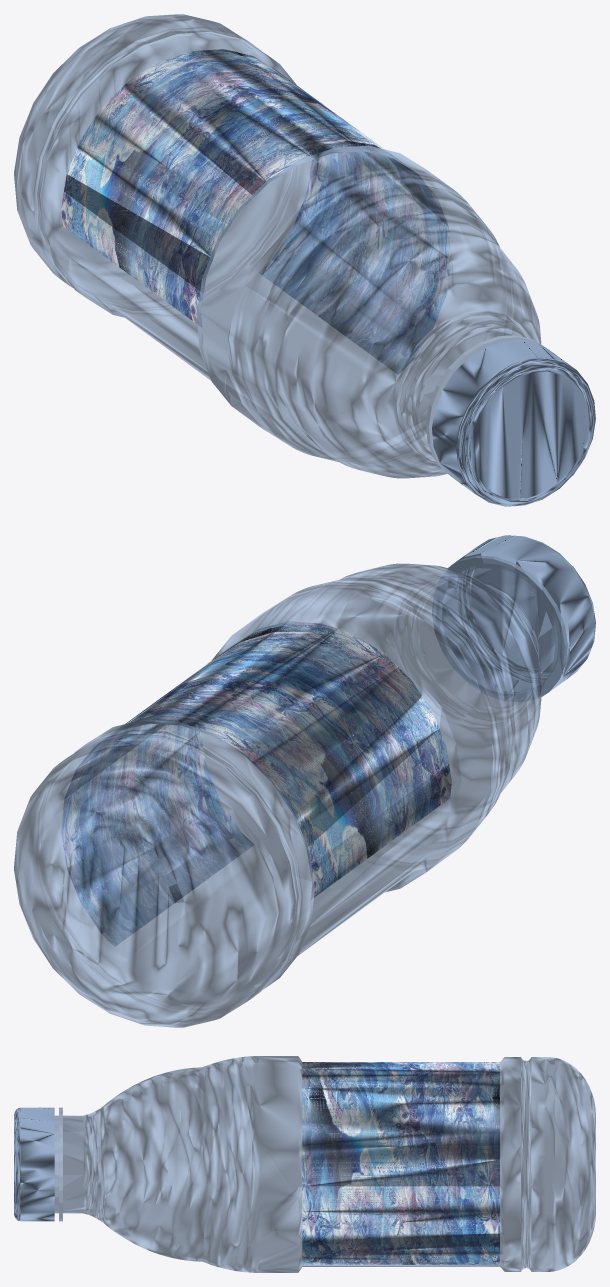
Rendered from model_align.obj.
3 renders of one model, top to bottom at view 1: azimuth 30°, elevation 25°; view 2: azimuth 150°, elevation 25°; view 3: azimuth 270°, elevation 25°, orthographic. The views are drawn at different scales.
Size of the model in its own units: 0.0962 by 0.0962 by 0.2581.
